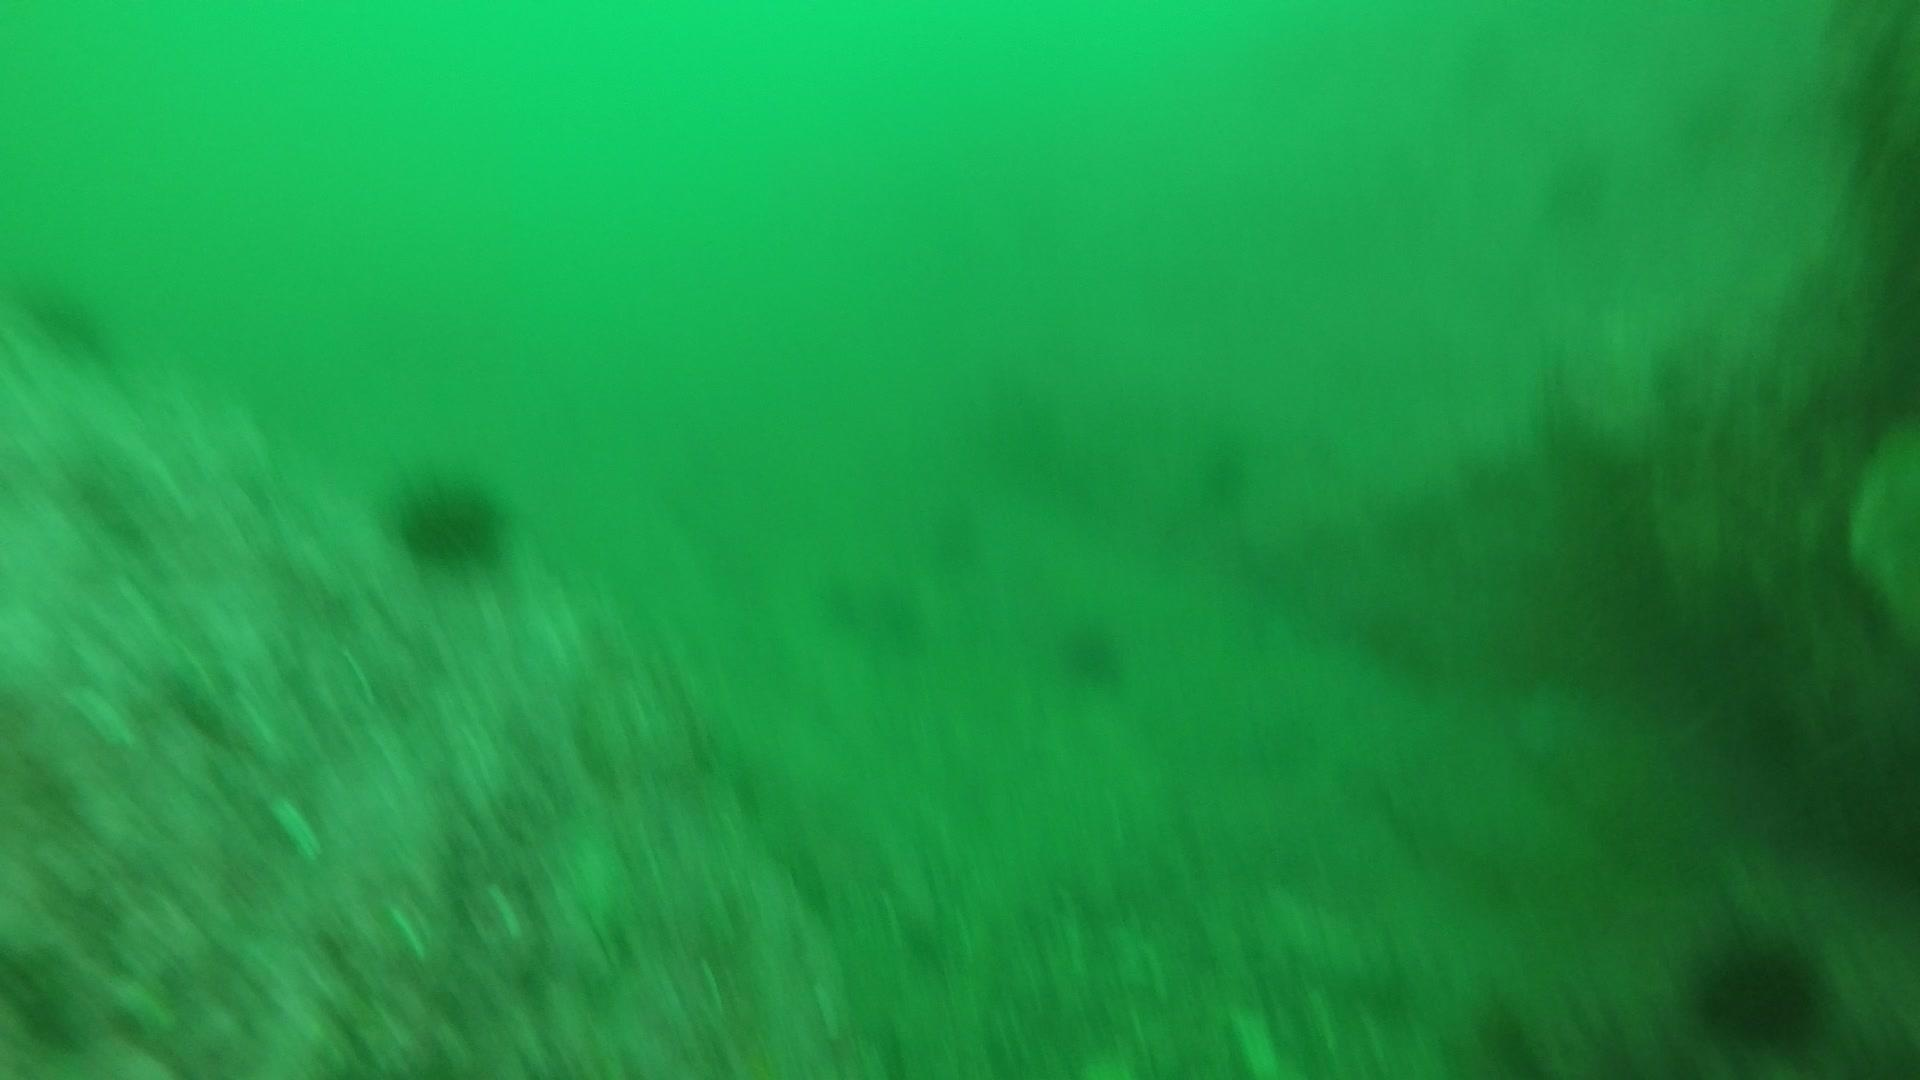echinus: (1687, 924, 1833, 1052), (385, 465, 513, 575), (15, 269, 117, 367), (1052, 612, 1130, 688)
